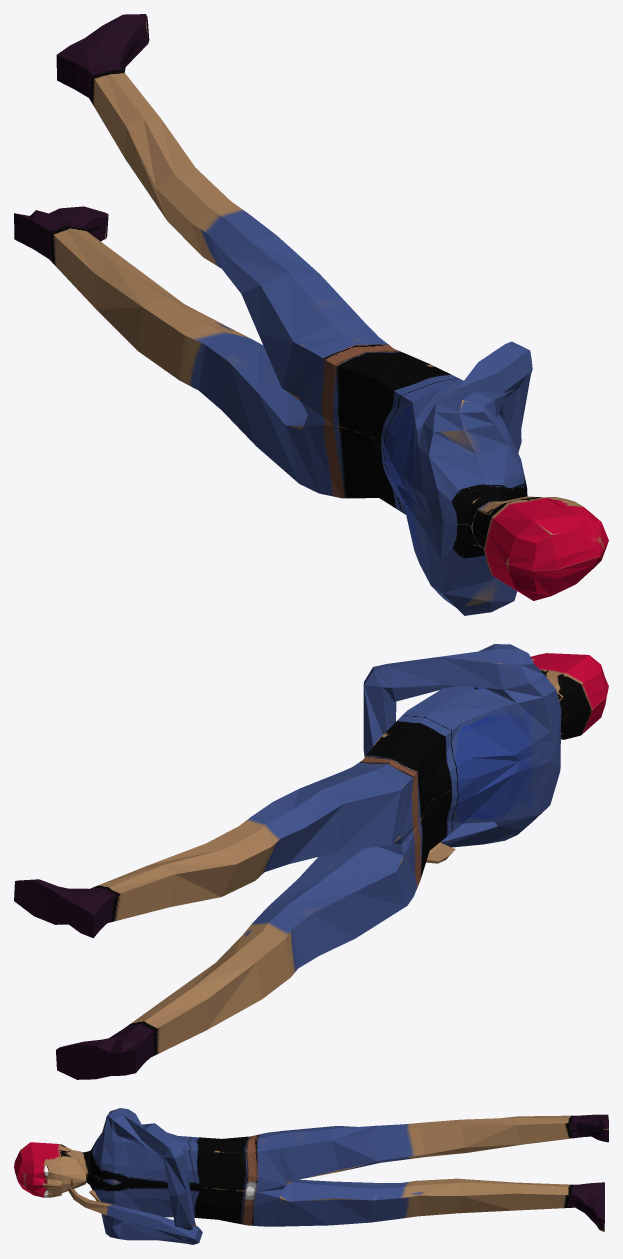
Rendered from mirrorman_000014.obj.
The picture shows the model from 3 angles, top to bottom: view 1: azimuth 30°, elevation 25°; view 2: azimuth 150°, elevation 25°; view 3: azimuth 270°, elevation 25°; orthographic projection. The views are drawn at different scales.
Visible parts, largest first — view 1: mirrorman_Cube.001_Material.001; view 2: mirrorman_Cube.001_Material.001; view 3: mirrorman_Cube.001_Material.001.
Boxes of the visible parts, x1,y1,x2,y2 form: mirrorman_Cube.001_Material.001: (14,14,608,615); mirrorman_Cube.001_Material.001: (14,644,608,1079); mirrorman_Cube.001_Material.001: (14,1108,608,1244).
Size of the model in its own units: 0.3463 by 0.4896 by 1.9.
1 material, 1 textured.
